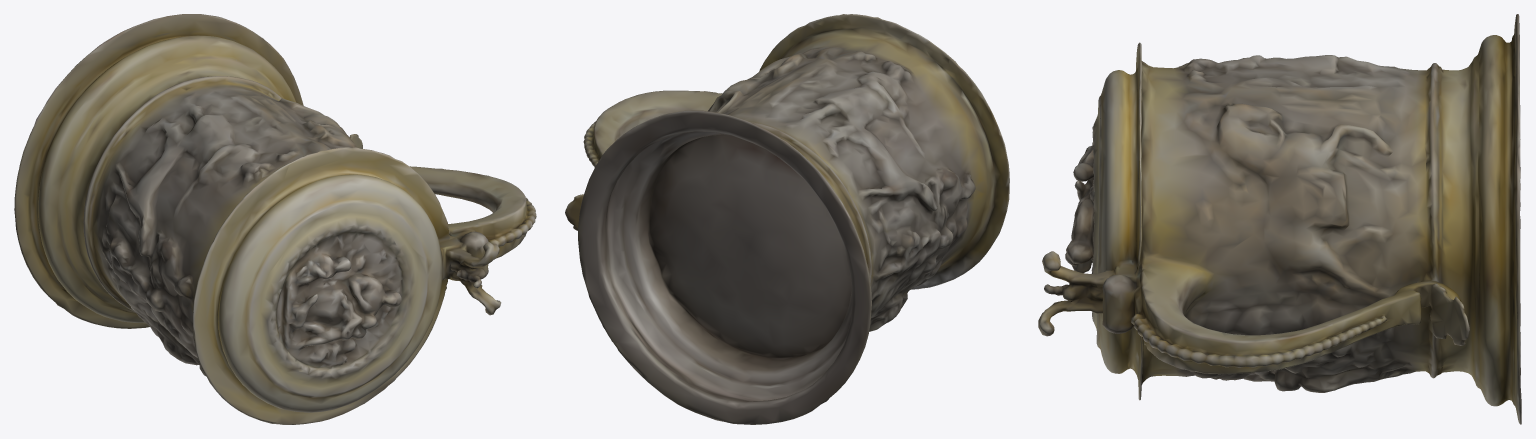
The model's file is Export Tankard.fbx.
3 views of the same model, side by side, from view 1: azimuth 30°, elevation 25°; view 2: azimuth 150°, elevation 25°; view 3: azimuth 270°, elevation 25° (orthographic). The views are drawn at different scales.
Parts seen in each view (by area): view 1: Tankar_LOD0; view 2: Tankar_LOD0; view 3: Tankar_LOD0.
Part boxes in pixels (bbox=[...]): Tankar_LOD0: bbox=[14, 14, 536, 424]; Tankar_LOD0: bbox=[565, 14, 1009, 424]; Tankar_LOD0: bbox=[1038, 14, 1521, 424].
Size of what is drawn, in the model's own units: 306 by 229 by 272.
